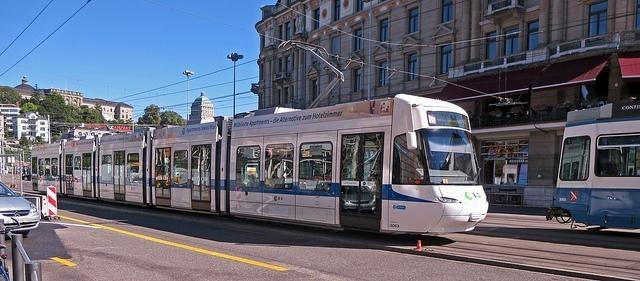bicycle: (544, 206, 574, 222)
car: (0, 180, 43, 240)
